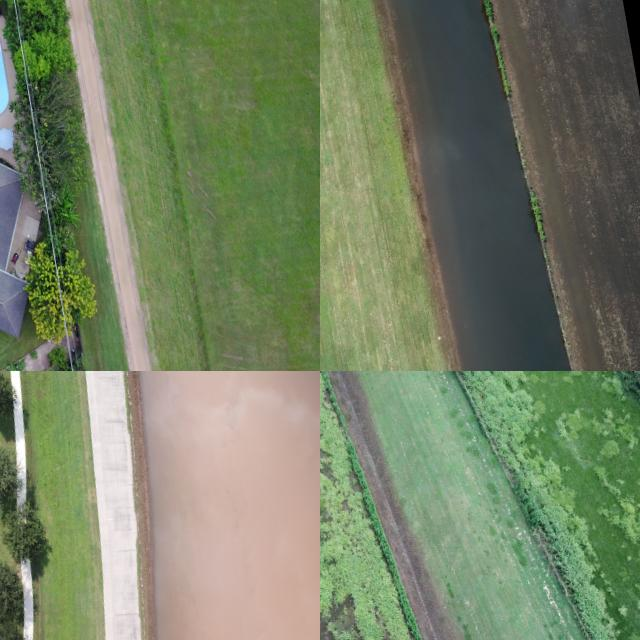fire: (387, 0, 571, 371), (140, 371, 320, 640)
